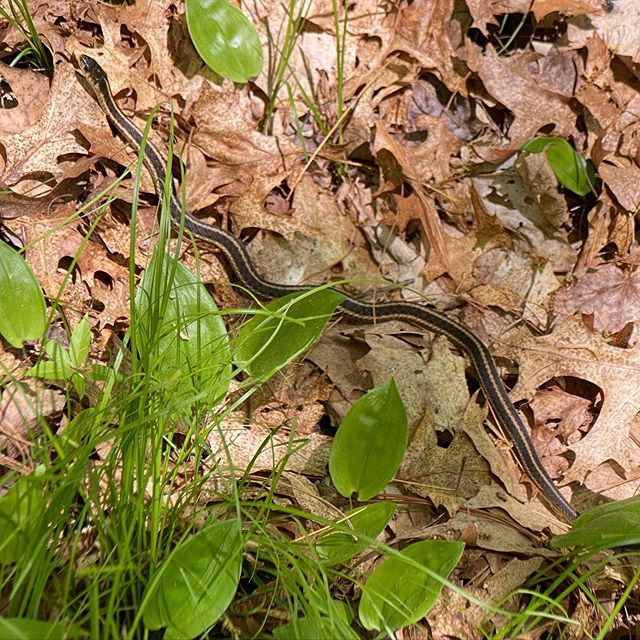animal: (58, 63, 607, 532)
vegetation: (1, 1, 622, 640)
